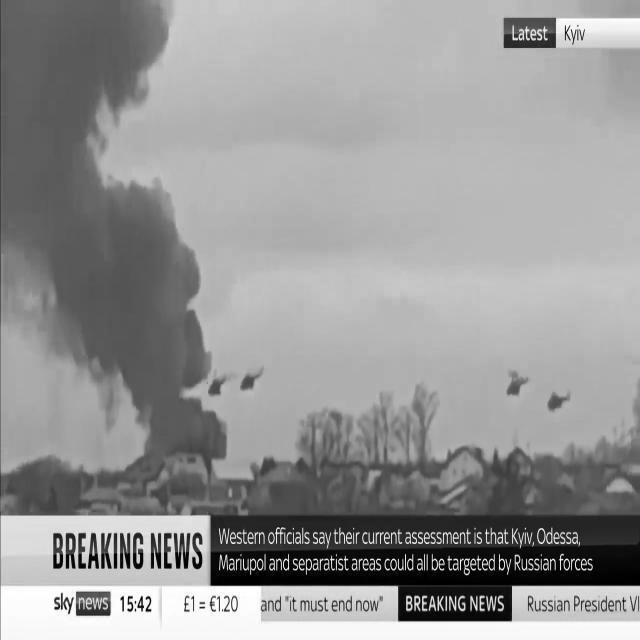helikopter: (492, 346, 584, 428), (200, 352, 272, 412)
